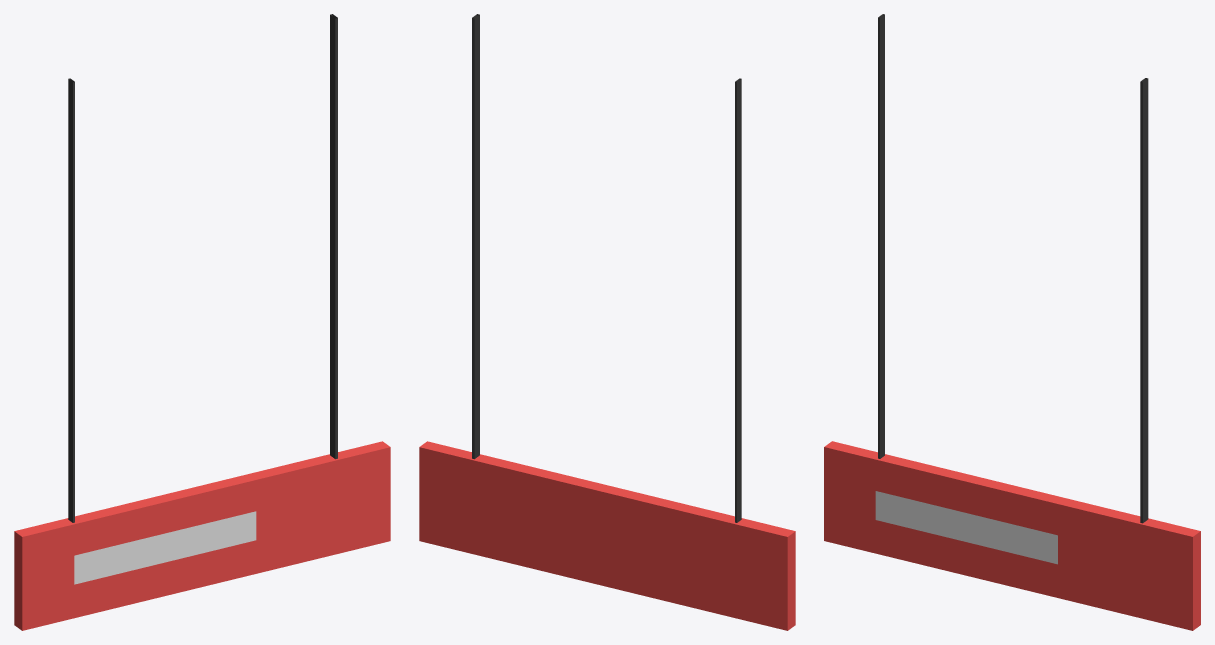
Rendered from entertainment_030.glb.
3 views of the same model, side by side, from view 1: azimuth 30°, elevation 25°; view 2: azimuth 150°, elevation 25°; view 3: azimuth 330°, elevation 25° (orthographic).
Parts seen in each view (by area): view 1: entertainment_030; view 2: entertainment_030; view 3: entertainment_030.
Part boxes in pixels (x1,y1,x2,y2): entertainment_030: (14, 14, 390, 630); entertainment_030: (419, 14, 795, 630); entertainment_030: (824, 14, 1200, 630).
Bounding box in the file's own units: 1.11 × 1.54 × 0.0429.
1 material, 1 textured.
